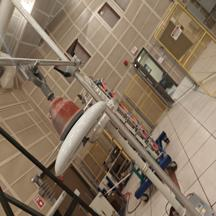insulator: (41, 91, 112, 182)
